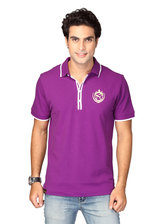clothoes: (29, 57, 136, 198)
watch: (26, 174, 44, 187)
